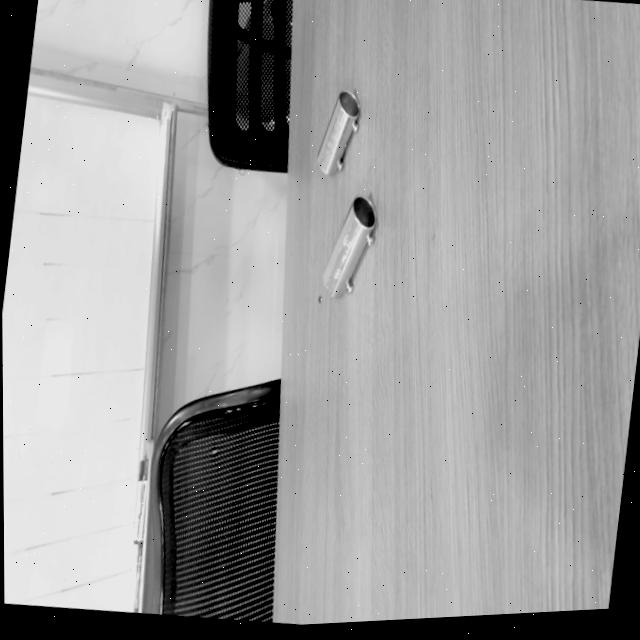Co_Lon: (314, 193, 387, 303)
Co_Nho: (308, 88, 369, 179)
